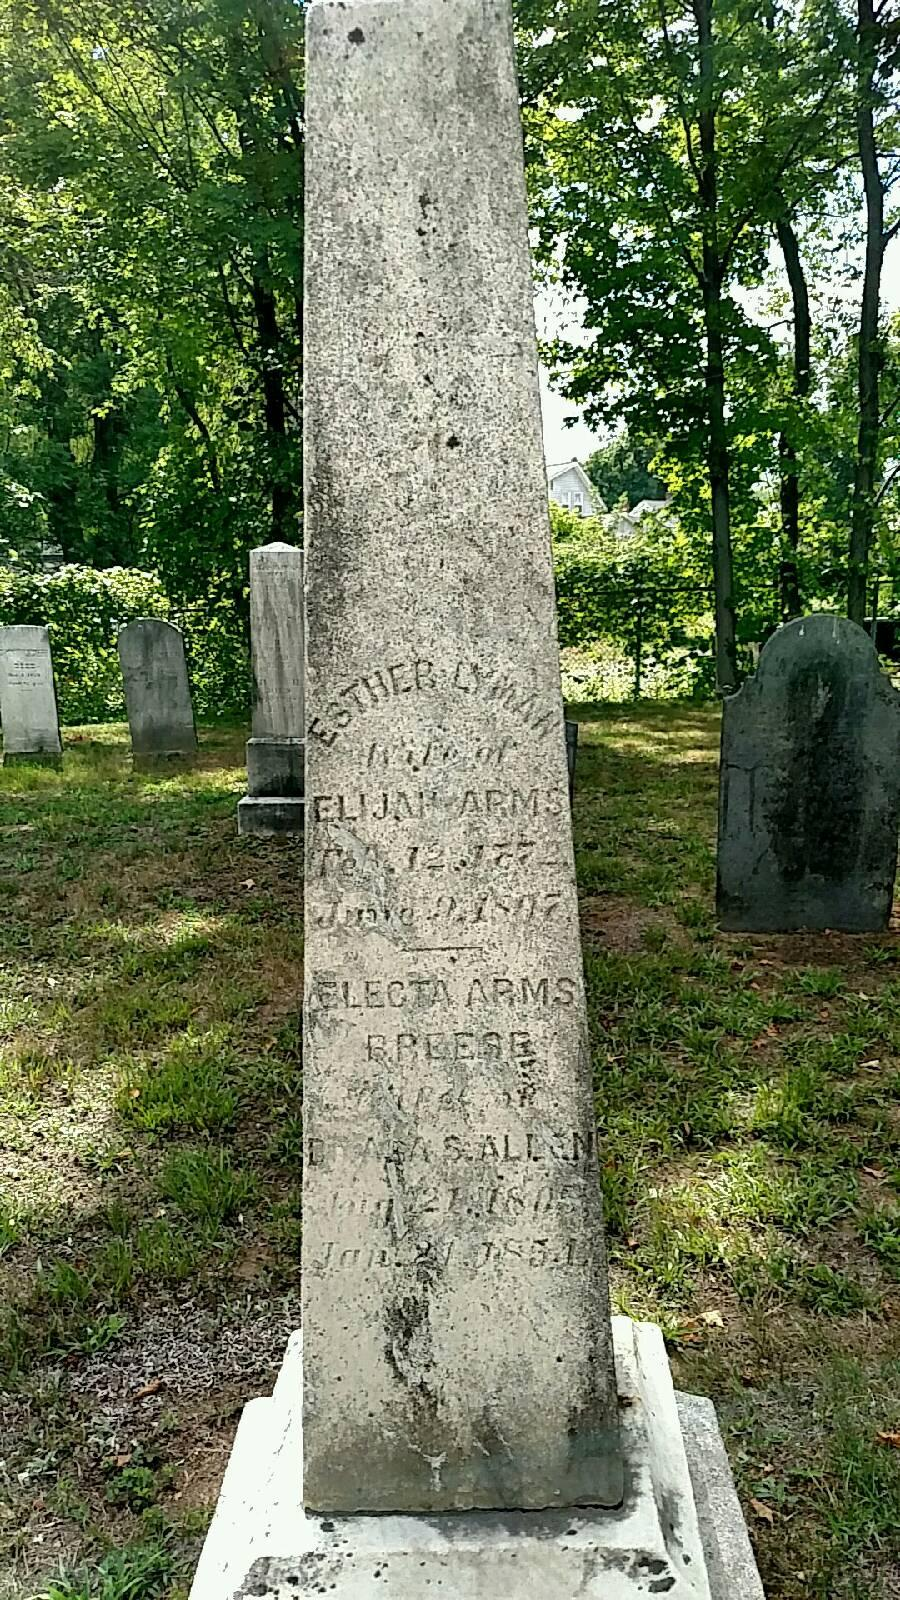obelisk: (297, 0, 635, 1519)
